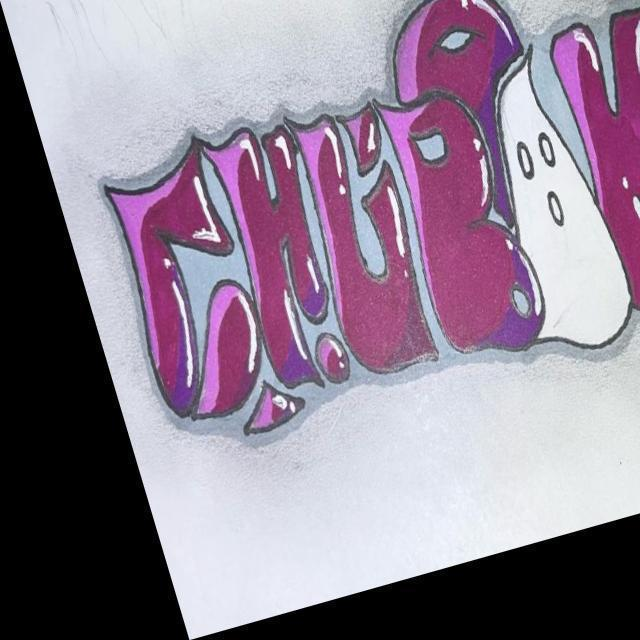nonspitting: (106, 0, 640, 436)
